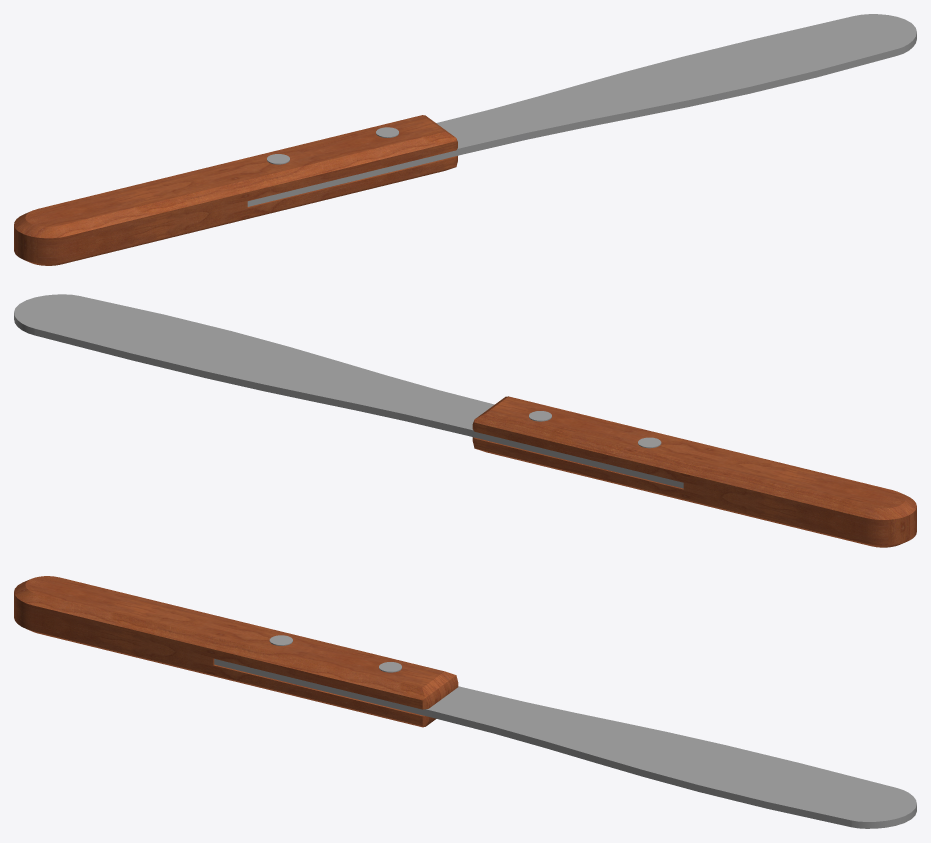
File: шпатель.FBX
3 views of the same model, one above another, from view 1: azimuth 30°, elevation 25°; view 2: azimuth 150°, elevation 25°; view 3: azimuth 330°, elevation 25° (orthographic).
Visible parts, largest first — view 1: Rectangle001; view 2: Rectangle001; view 3: Rectangle001.
Boxes of the visible parts, box(x1,y1,x2,y2) form: Rectangle001: box(14, 14, 916, 265); Rectangle001: box(14, 294, 916, 547); Rectangle001: box(14, 576, 916, 828).
Size of the model in its own units: 27.31 by 1.18 by 2.54.
